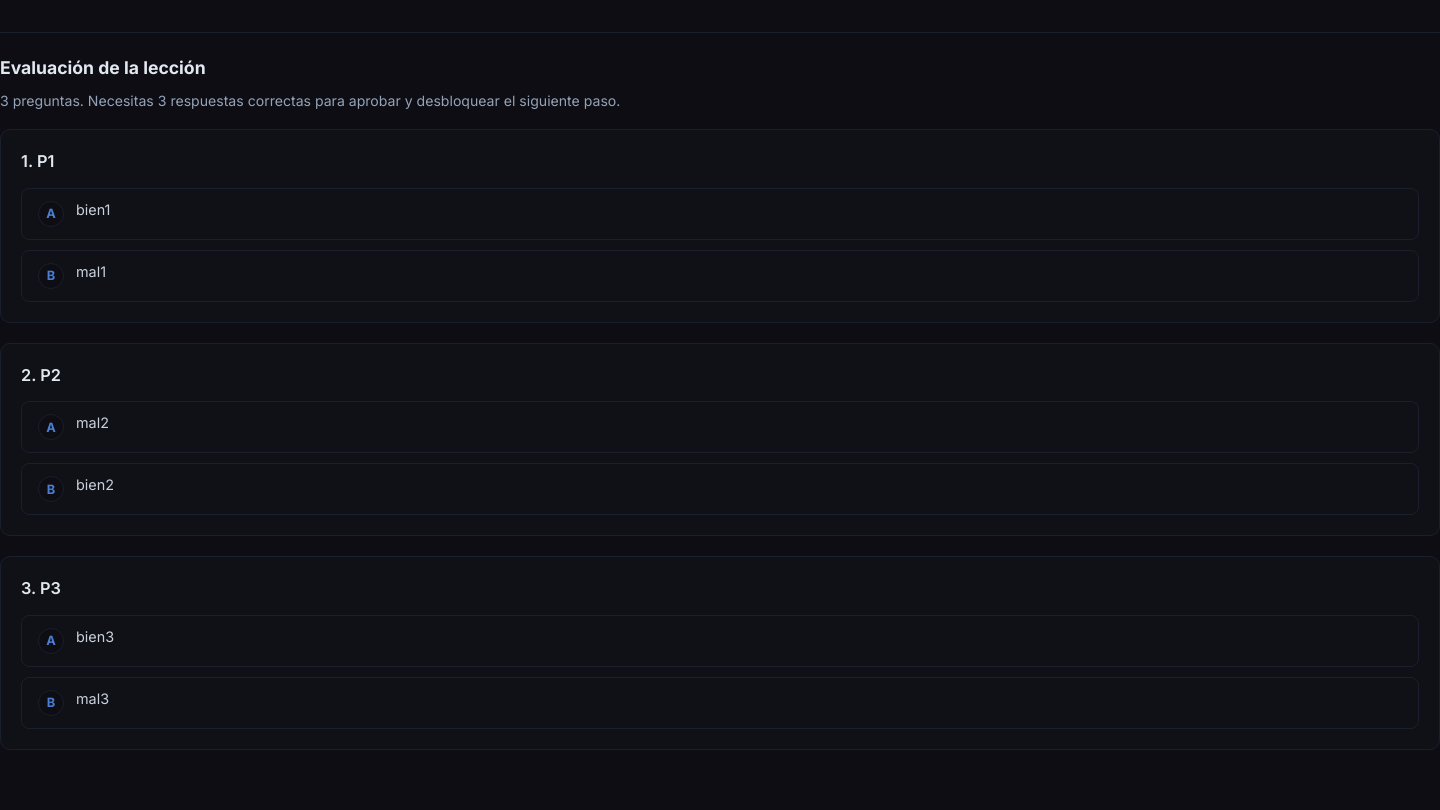
Test: Quiz › cada pregunta se responde una sola vez
Click the button "B mal1".
click(91, 271)  # box [21,250,1419,302]
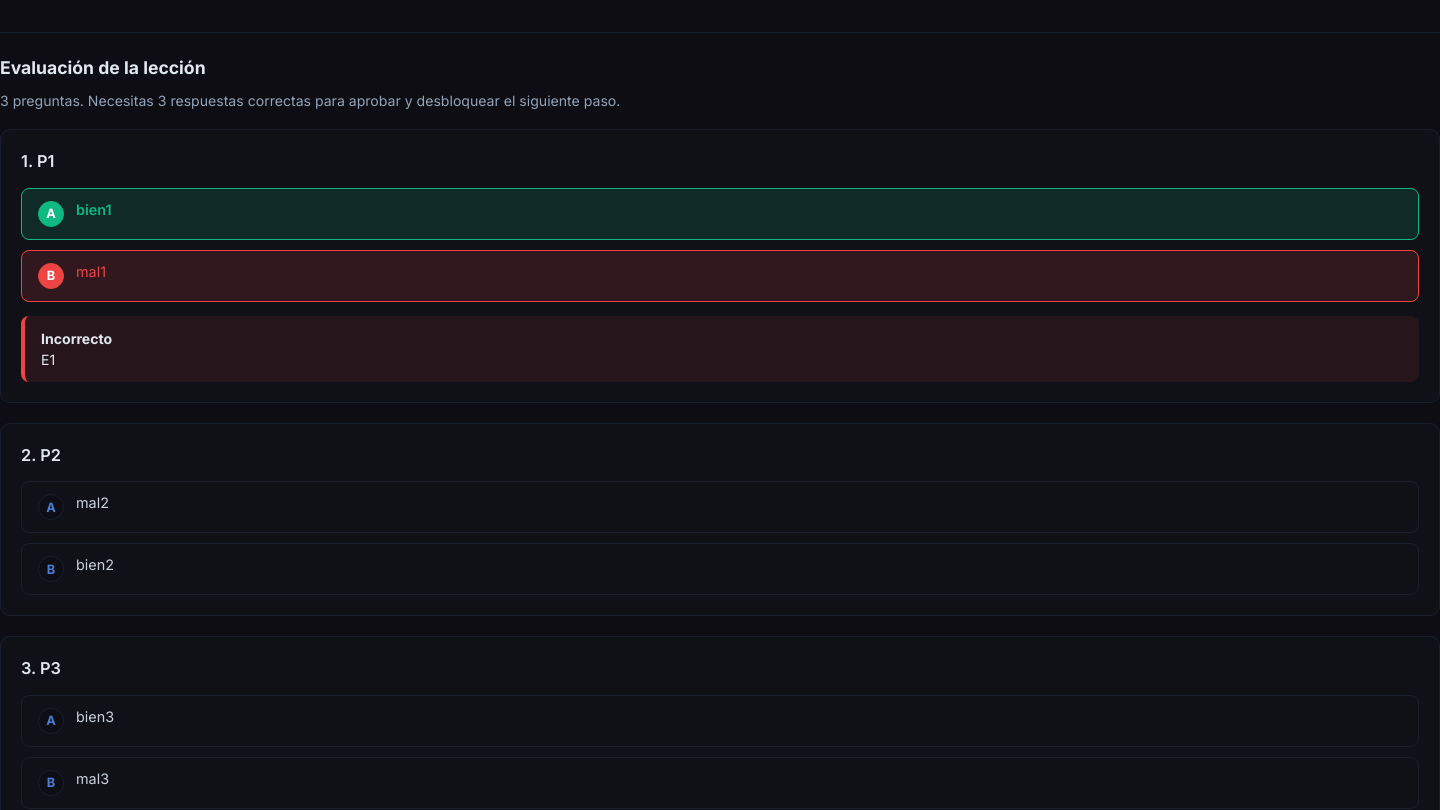
Now the button "A bien1" is disabled, box [21,188,1419,240]
Now the text "Incorrecto" is shown, box [41,330,112,347]
